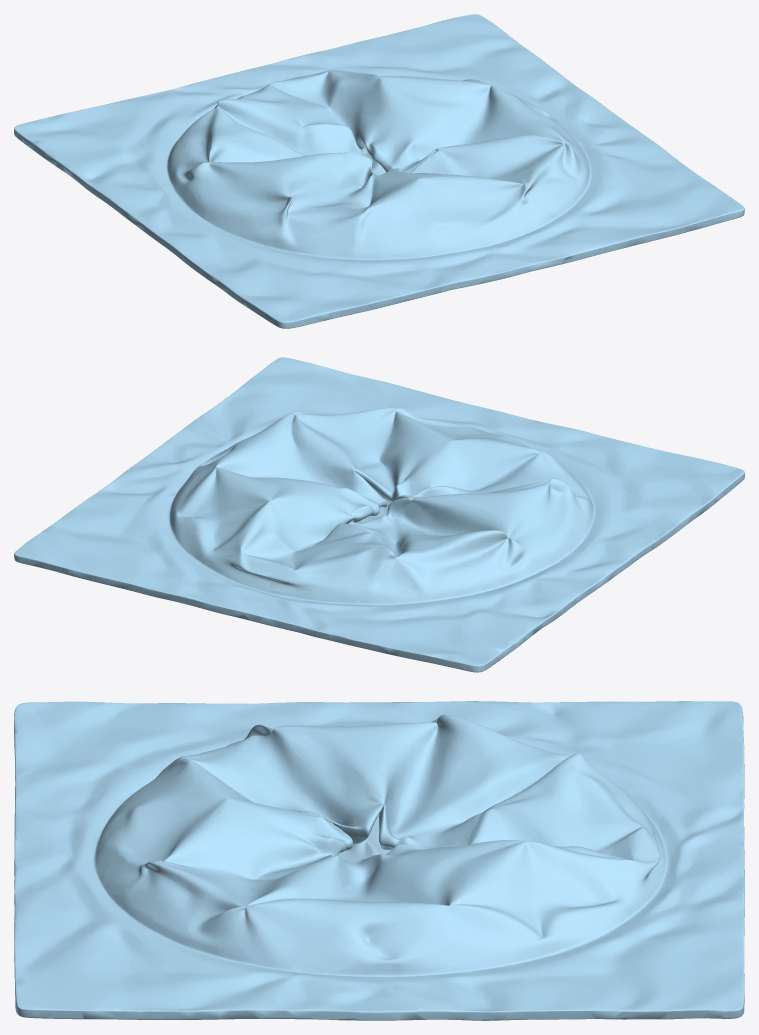
The model's file is bubble_damaged.glb.
3 views of the same model, one above another, from view 1: azimuth 30°, elevation 25°; view 2: azimuth 150°, elevation 25°; view 3: azimuth 270°, elevation 25° (orthographic). The views are drawn at different scales.
Size of the model in its own units: 2 by 0.2152 by 2.
Materials: 1 (1 with a texture image).
